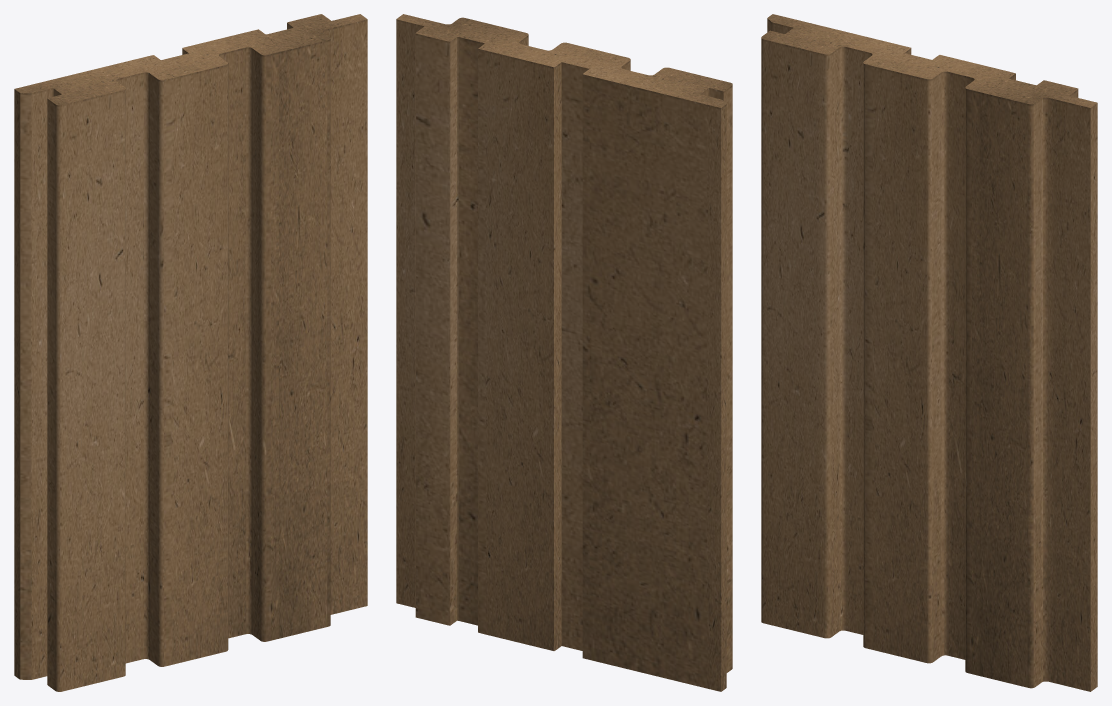
File: atlas.glb
3 renders of one model, left to right at view 1: azimuth 30°, elevation 25°; view 2: azimuth 150°, elevation 25°; view 3: azimuth 330°, elevation 25°, orthographic.
Visible parts, largest first — view 1: root; view 2: root; view 3: root.
Boxes of the visible parts, box(x1,y1,x2,y2) form: root: box(14, 14, 367, 691); root: box(396, 14, 732, 691); root: box(761, 14, 1097, 691).
Bounding box in the file's own units: 0.12 × 0.2 × 0.0176.
Materials: 2 (2 with a texture image).
